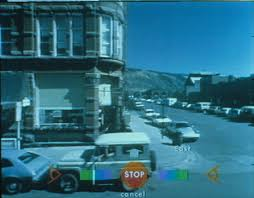Car Accident Detector - v4 Generation1 Exported: (3, 134, 154, 193)
